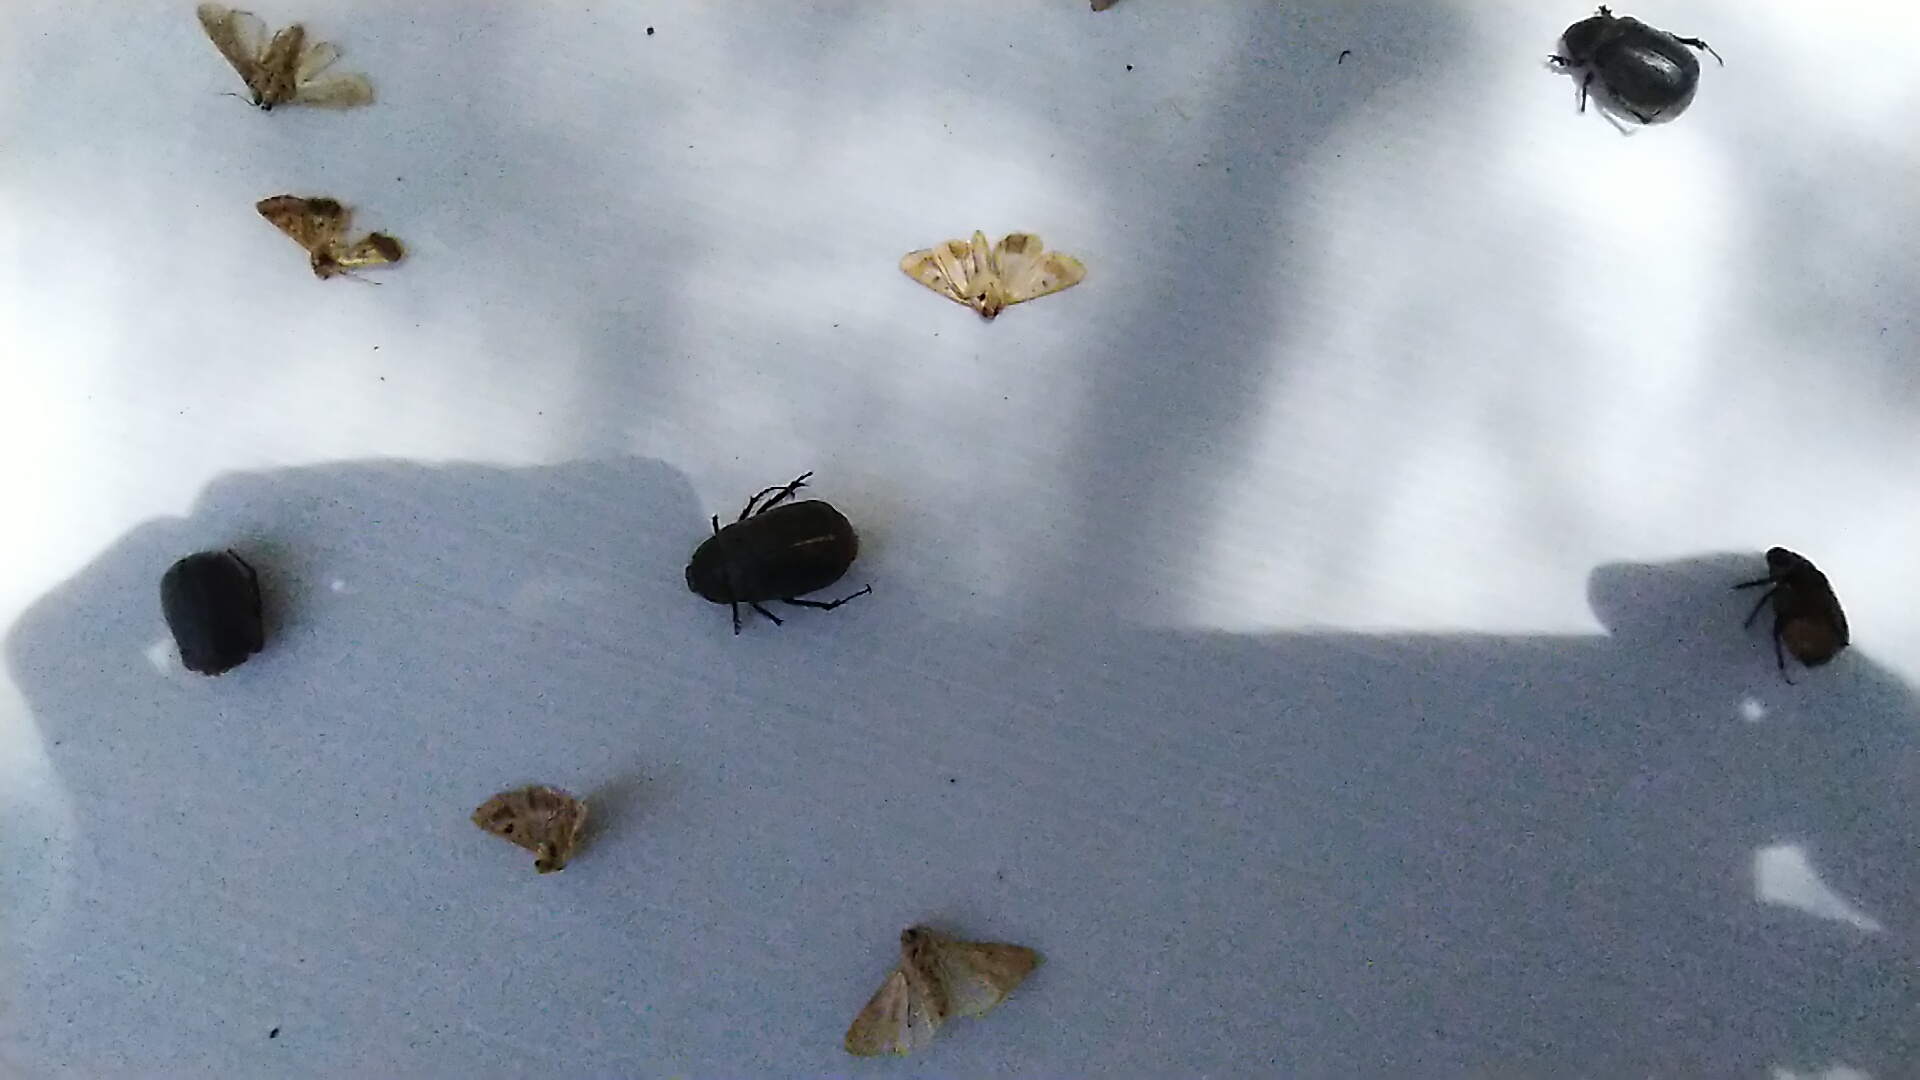INS-A: (665, 465, 901, 649), (1535, 1, 1733, 142), (1726, 518, 1859, 691), (158, 543, 276, 691)
INS-B: (829, 916, 1064, 1073), (187, 3, 400, 124)
INS-C: (893, 214, 1114, 345), (251, 189, 410, 299), (464, 774, 603, 882)
